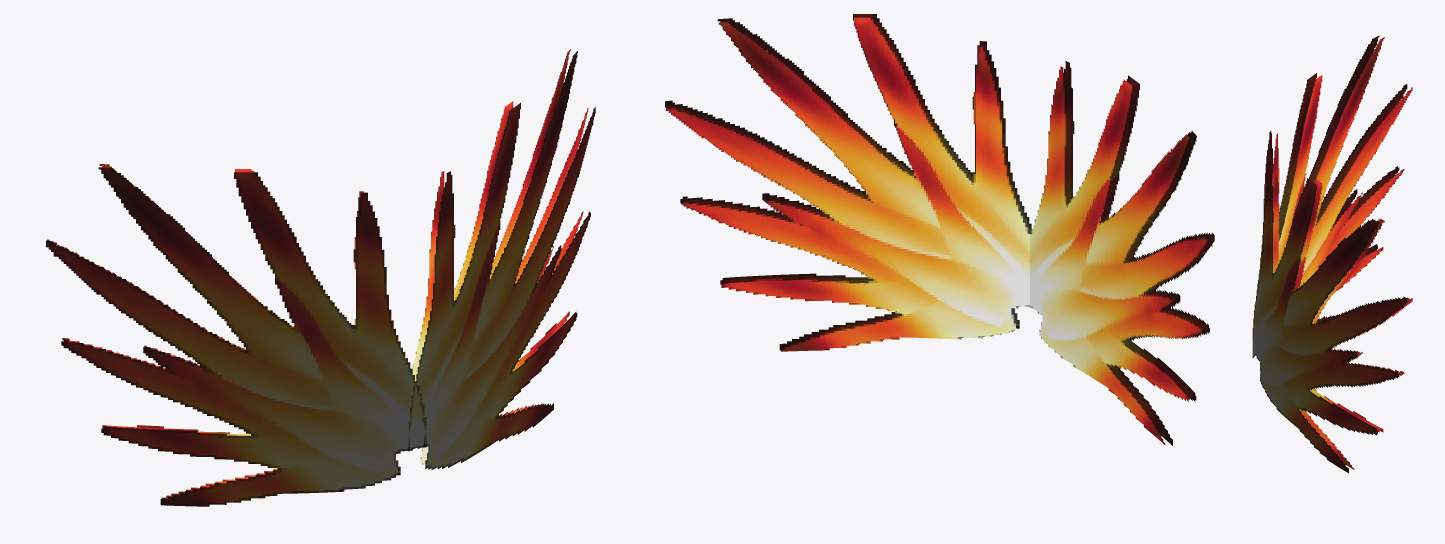
Rendered from owner_phoenix_wings.glb.
3 renders of one model, left to right at view 1: azimuth 30°, elevation 25°; view 2: azimuth 150°, elevation 25°; view 3: azimuth 270°, elevation 25°, orthographic. The views are drawn at different scales.
Parts seen in each view (by area): view 1: Owner Inferno Phoenix Wings Wing Right, Owner Inferno Phoenix Wings Wing Left; view 2: Owner Inferno Phoenix Wings Wing Left, Owner Inferno Phoenix Wings Wing Right; view 3: Owner Inferno Phoenix Wings Wing Left, Owner Inferno Phoenix Wings Wing Right.
Boxes of the visible parts, x1,y1,x2,y2 form: Owner Inferno Phoenix Wings Wing Right: (46, 164, 426, 506); Owner Inferno Phoenix Wings Wing Left: (408, 49, 595, 469); Owner Inferno Phoenix Wings Wing Left: (665, 14, 1031, 351); Owner Inferno Phoenix Wings Wing Right: (1030, 61, 1214, 445); Owner Inferno Phoenix Wings Wing Left: (1252, 164, 1412, 473); Owner Inferno Phoenix Wings Wing Right: (1252, 35, 1412, 370).
Bounding box in the file's own units: 1.88 × 1.09 × 0.6189.
2 materials, 2 textured.
